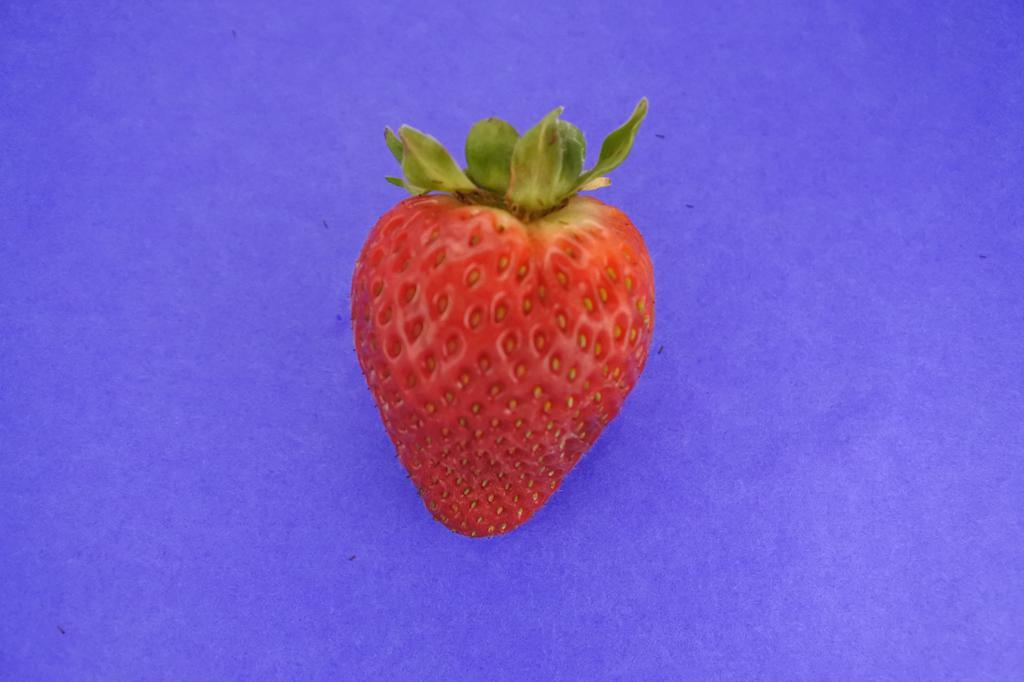red strawberry: (347, 96, 657, 541)
